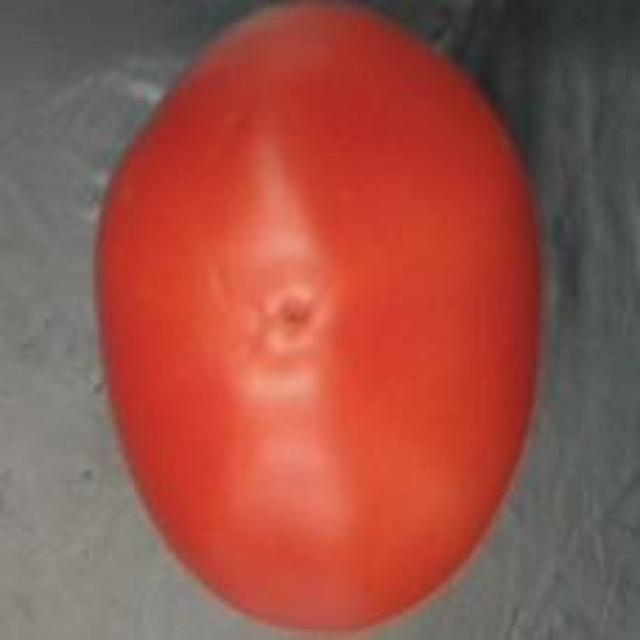ripe tomato: (89, 0, 559, 640)
